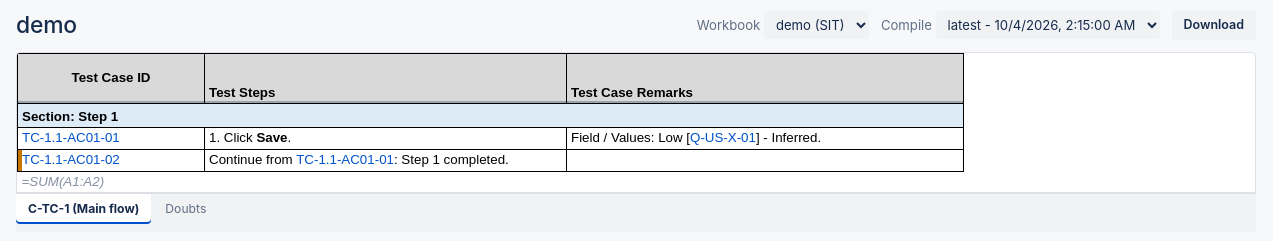
Test: WorkbookPage › says so when the clicked test case is no longer in the wiki
Click the cell "1. Click Save." at (386, 139), box x1=204 y1=128 x2=566 y2=150
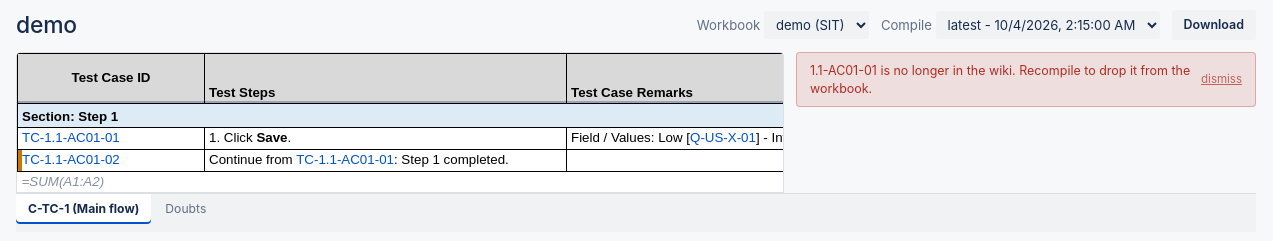
Expected: the text "1.1-AC01-01 is no longer in the wiki" is shown, x1=810 y1=62 x2=1191 y2=97
